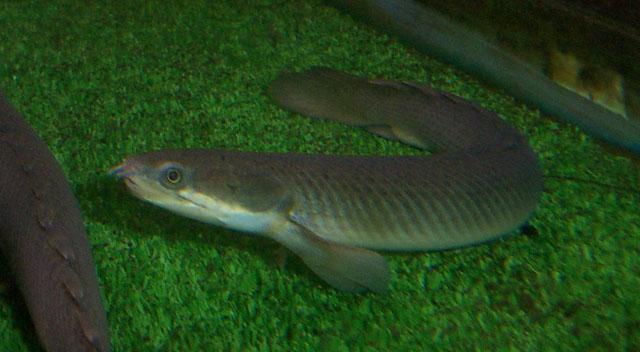Sirip Anal: (98, 152, 156, 208)
Sirip Dada: (270, 207, 404, 319)
Sirip Ekor: (246, 48, 366, 134)
Sirip Punggung: (356, 65, 536, 161)
